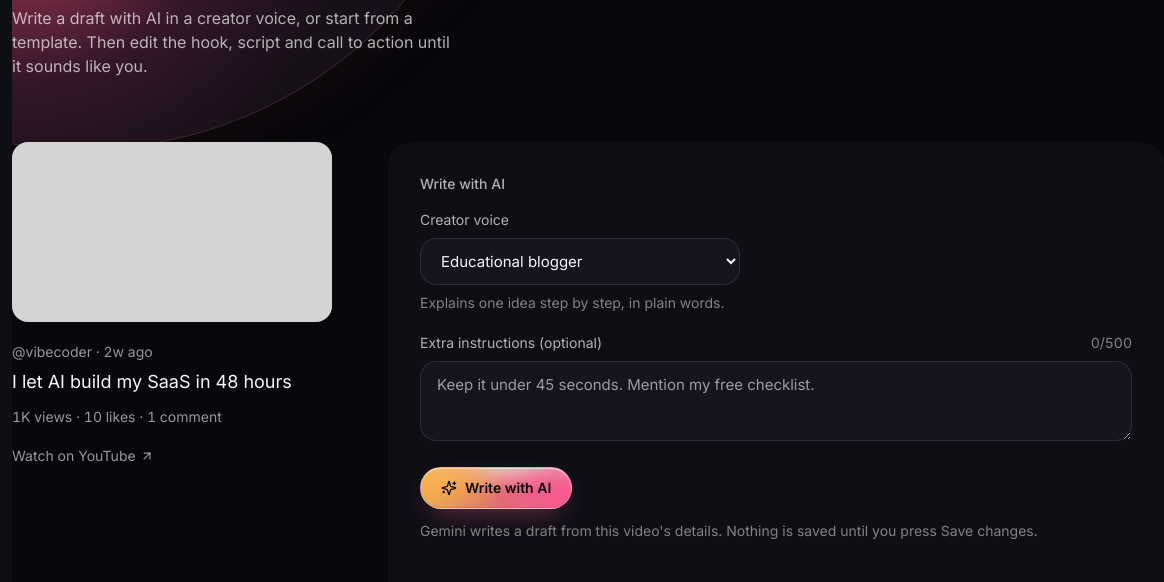
Scenario: Write with AI: errors keep the editor text › Dismiss removes the message
The width and height of the screenshot is (1164, 582).
Expected: the heading "Write with AI" is shown, 420,175 -> 505,192
Click the button "Write with AI" at coordinates (496, 488), box 420,467 -> 572,509
(page scrolled)
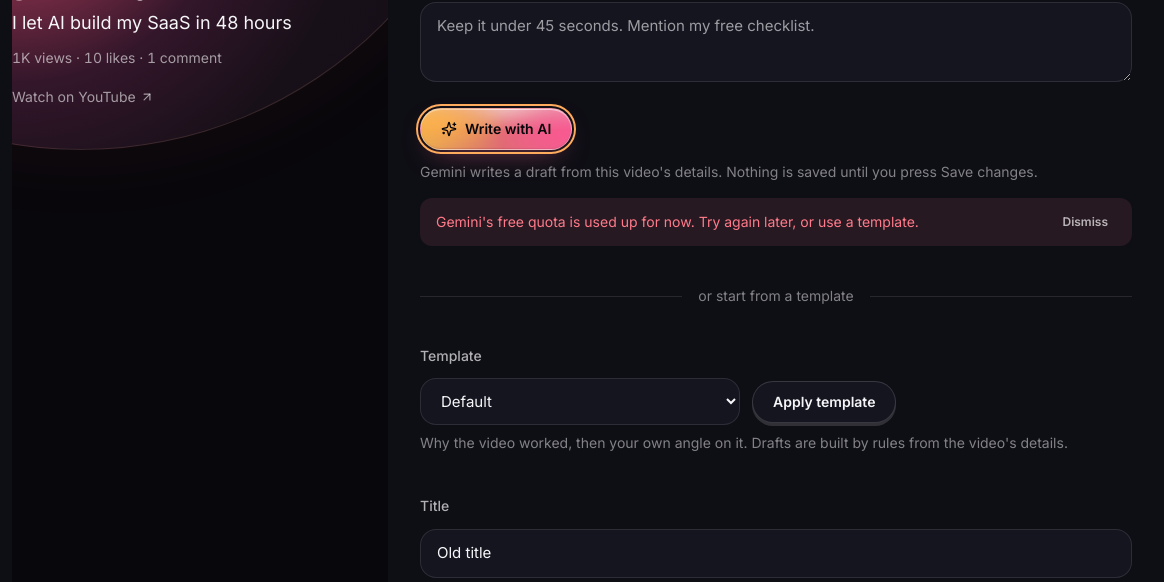
Expected: the text "Gemini's free quota is used up for now. Try again later, or use a template." is shown, 436,212 -> 919,232
Click the button "Dismiss" at coordinates (1085, 222), box 1054,210 -> 1116,234
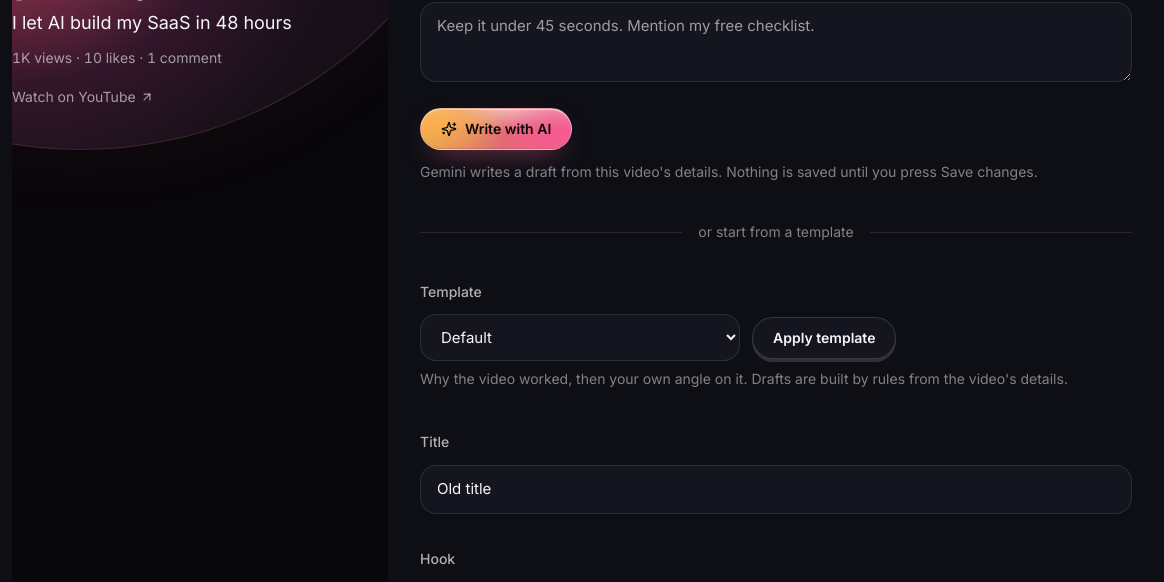
Expected: the text "Gemini's free quota is used up for now. Try again later, or use a template." is gone
